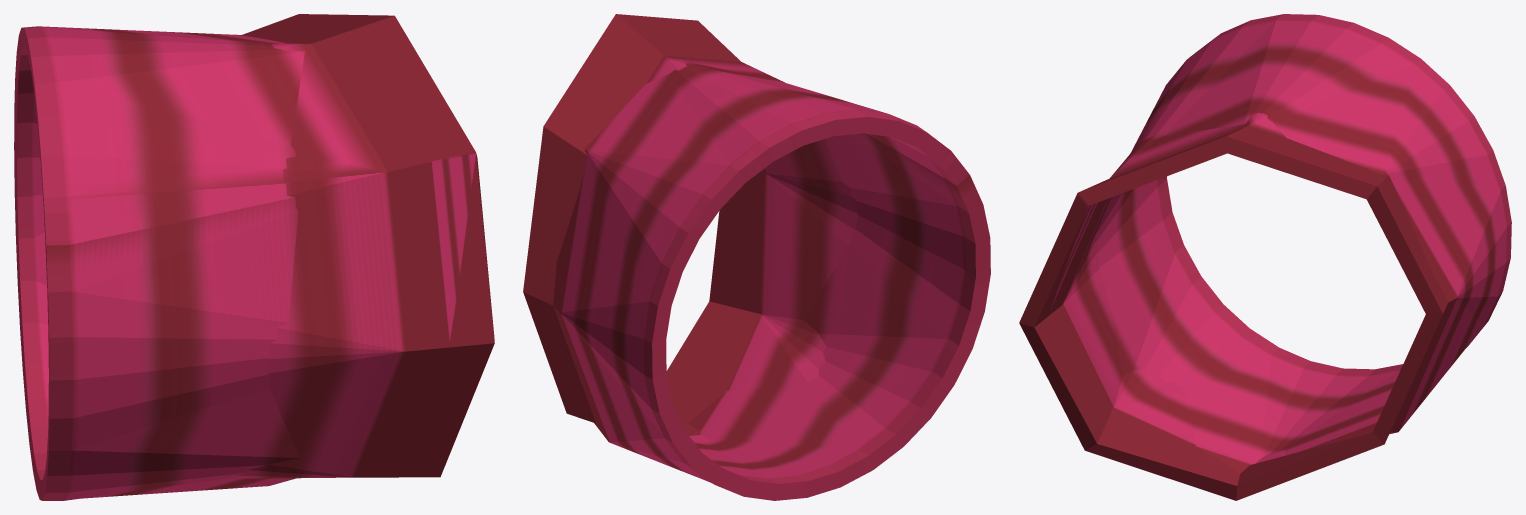
File: ConnectingPiece4.fbx
3 views of the same model, side by side, from view 1: azimuth 30°, elevation 25°; view 2: azimuth 150°, elevation 25°; view 3: azimuth 270°, elevation 25° (orthographic). The views are drawn at different scales.
Visible parts, largest first — view 1: joined 2; view 2: joined 2; view 3: joined 2.
Boxes of the visible parts, bbox=[...] form: joined 2: bbox=[14, 14, 494, 500]; joined 2: bbox=[523, 14, 990, 500]; joined 2: bbox=[1019, 14, 1511, 500].
Size of the model in its own units: 520 by 667 by 572.
